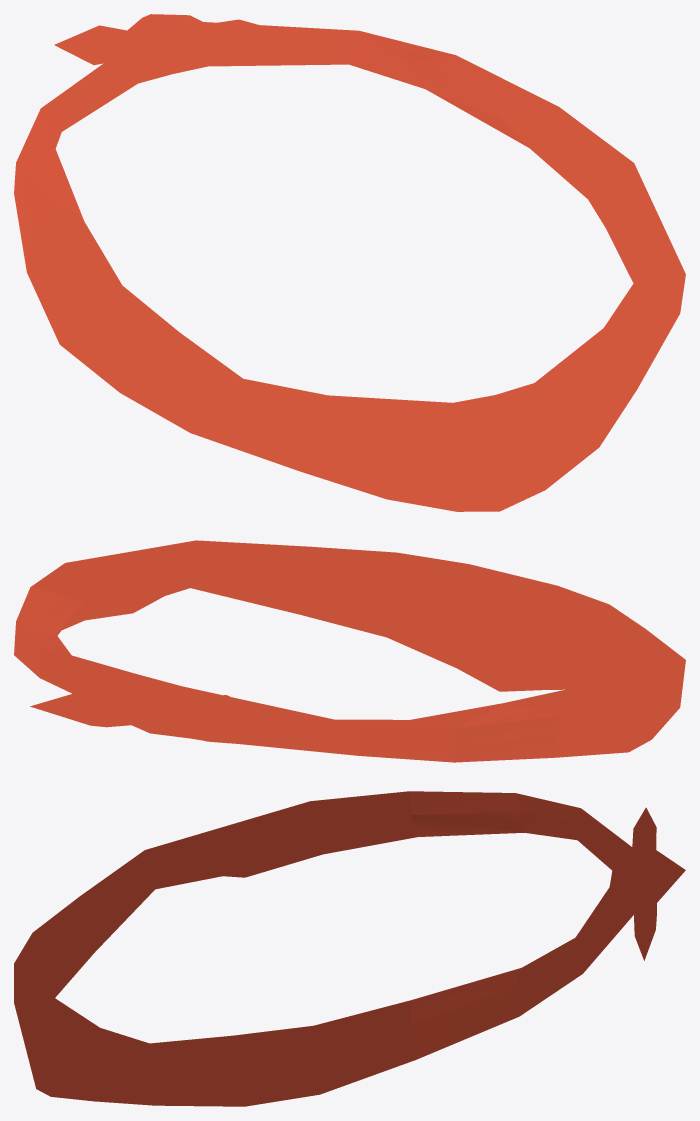
The model's file is Bandana.fbx.
The picture shows the model from 3 angles, top to bottom: view 1: azimuth 30°, elevation 25°; view 2: azimuth 150°, elevation 25°; view 3: azimuth 270°, elevation 25°; orthographic projection. The views are drawn at different scales.
Visible parts, largest first — view 1: Bandana; view 2: Bandana; view 3: Bandana.
Boxes of the visible parts, x1,y1,x2,y2 form: Bandana: [14, 14, 685, 511]; Bandana: [14, 540, 685, 762]; Bandana: [14, 791, 685, 1106].
Bounding box in the file's own units: 577 × 243 × 652.
